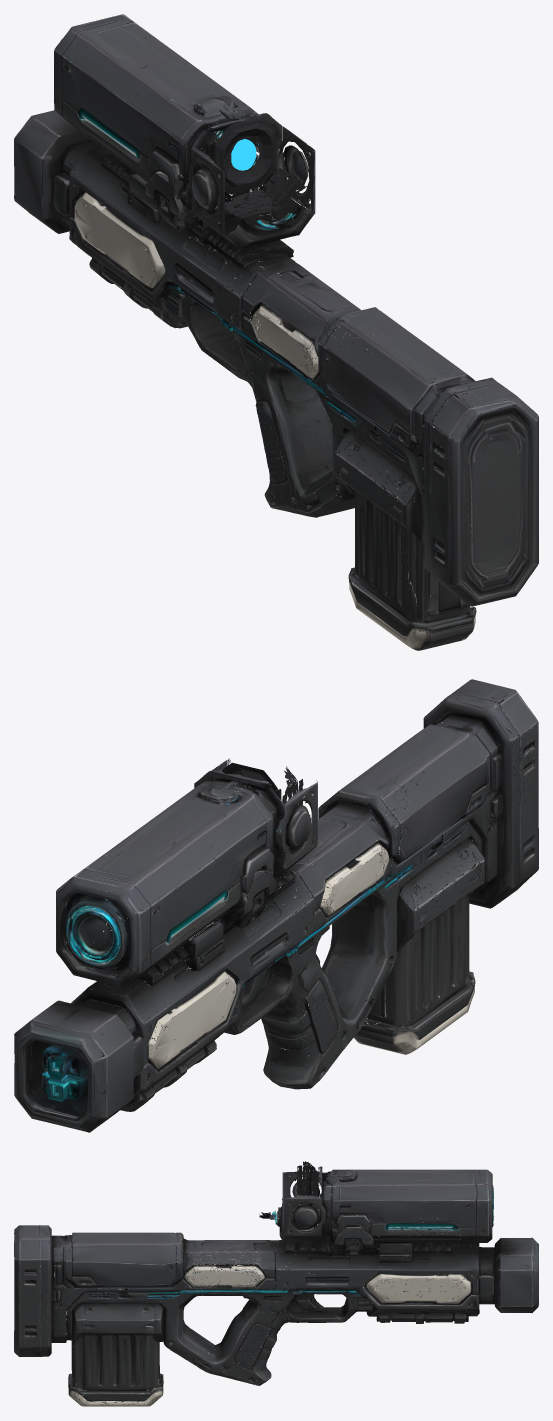
The model's file is em40t1_viewmodel.glb.
The picture shows the model from 3 angles, top to bottom: view 1: azimuth 30°, elevation 25°; view 2: azimuth 150°, elevation 25°; view 3: azimuth 270°, elevation 25°; orthographic projection. The views are drawn at different scales.
Visible parts, largest first — view 1: node_0; view 2: node_0; view 3: node_0.
Boxes of the visible parts, bbox=[...] form: node_0: bbox=[14, 14, 538, 650]; node_0: bbox=[14, 679, 538, 1132]; node_0: bbox=[14, 1161, 538, 1406].
Bounding box in the file's own units: 0.1313 × 0.4799 × 1.
Materials: 3 (2 with a texture image).
